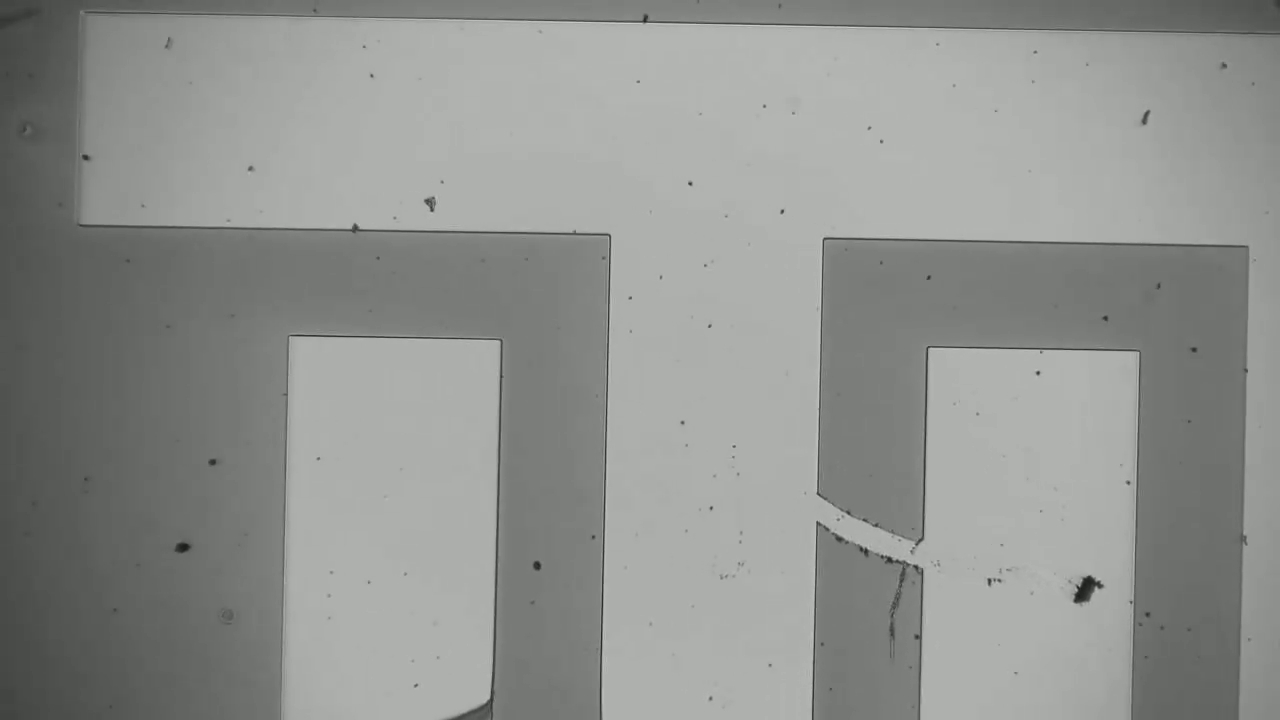Short_circuit: (798, 473, 953, 593)
